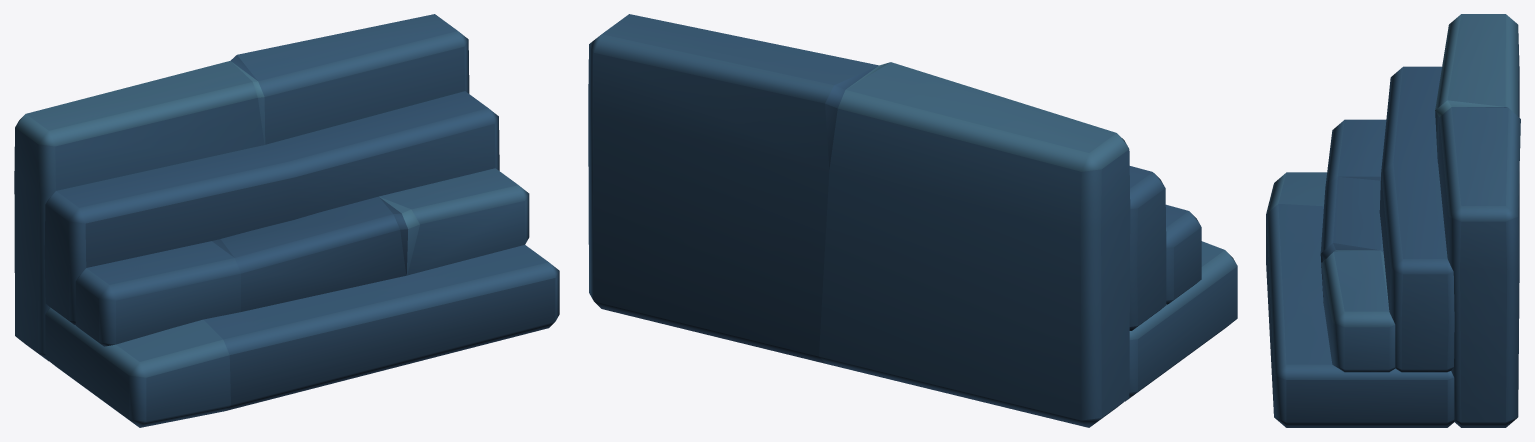
File: stair_2.fbx
3 views of the same model, side by side, from view 1: azimuth 30°, elevation 25°; view 2: azimuth 150°, elevation 25°; view 3: azimuth 270°, elevation 25° (orthographic). The views are drawn at different scales.
Visible parts, largest first — view 1: stair_2; view 2: stair_2; view 3: stair_2.
Part boxes in pixels (x1,y1,x2,y2): stair_2: (14,14,559,427); stair_2: (588,14,1237,427); stair_2: (1266,14,1520,427).
Size of the model in its own units: 205 by 108 by 109.
